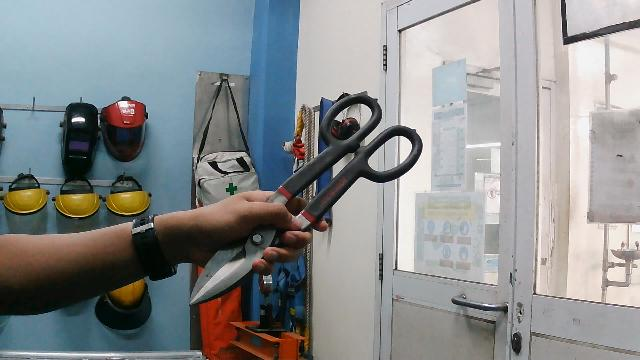gunting_plat: (149, 68, 453, 328)
